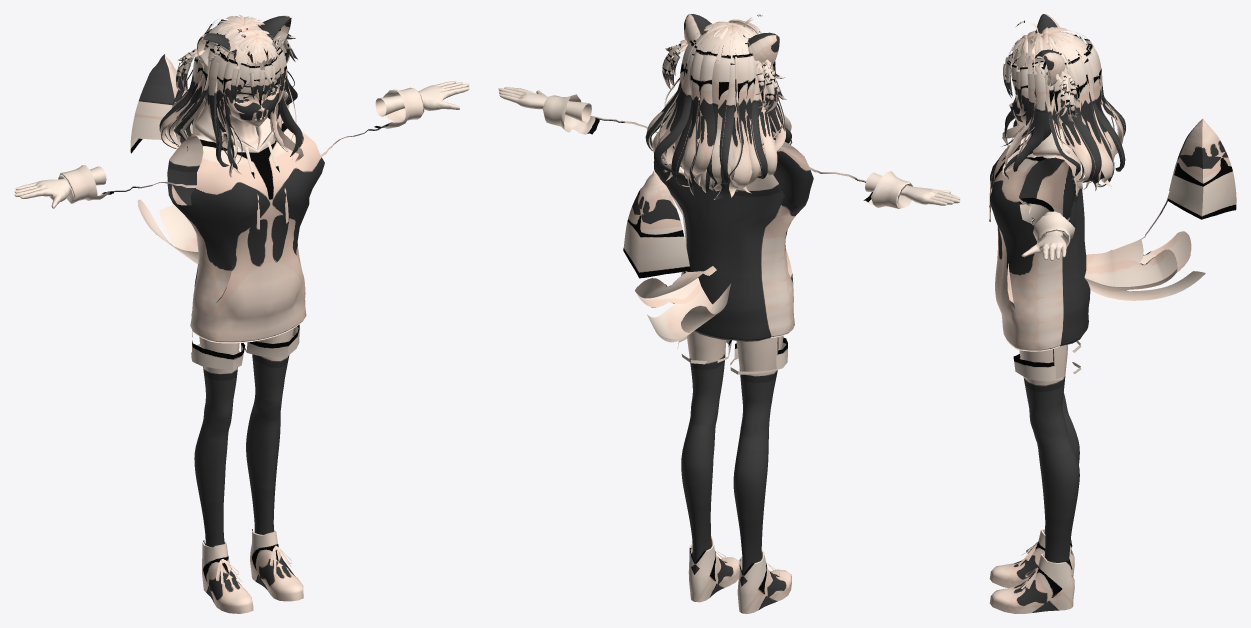
3 views of the same model, side by side, from view 1: azimuth 30°, elevation 25°; view 2: azimuth 150°, elevation 25°; view 3: azimuth 270°, elevation 25° (orthographic). The views are drawn at different scales.
Parts seen in each view (by area): view 1: Body, Hair, Face; view 2: Body, Hair; view 3: Body, Hair, Face.
Part boxes in pixels (box(x1,y1,x2,y2)): Body: box(14, 15, 469, 613); Hair: box(130, 14, 303, 264); Face: box(204, 34, 281, 126); Body: box(498, 14, 960, 613); Hair: box(623, 14, 792, 342); Body: box(989, 14, 1090, 613); Hair: box(1001, 20, 1236, 300); Face: box(1009, 41, 1058, 125).
Size of the model in its own units: 1.42 by 1.7 by 0.6715.
Materials: 16 (16 with a texture image).
